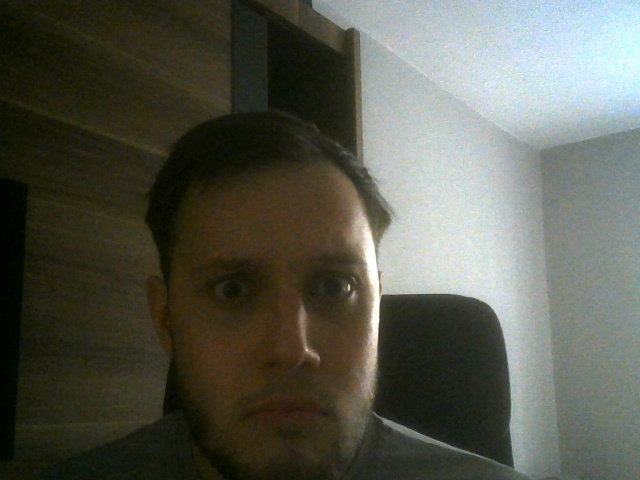surprised: (147, 110, 408, 478)
